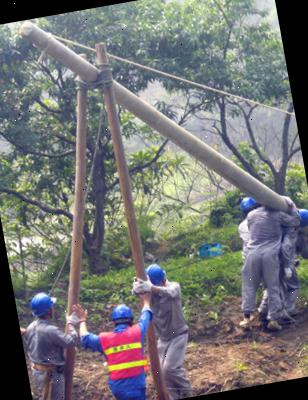helmet: (23, 286, 60, 318), (141, 261, 168, 288), (110, 303, 134, 326), (238, 193, 258, 212), (296, 204, 308, 229)
wear: (99, 327, 149, 395), (145, 280, 190, 344), (24, 320, 66, 378), (246, 208, 284, 257)
